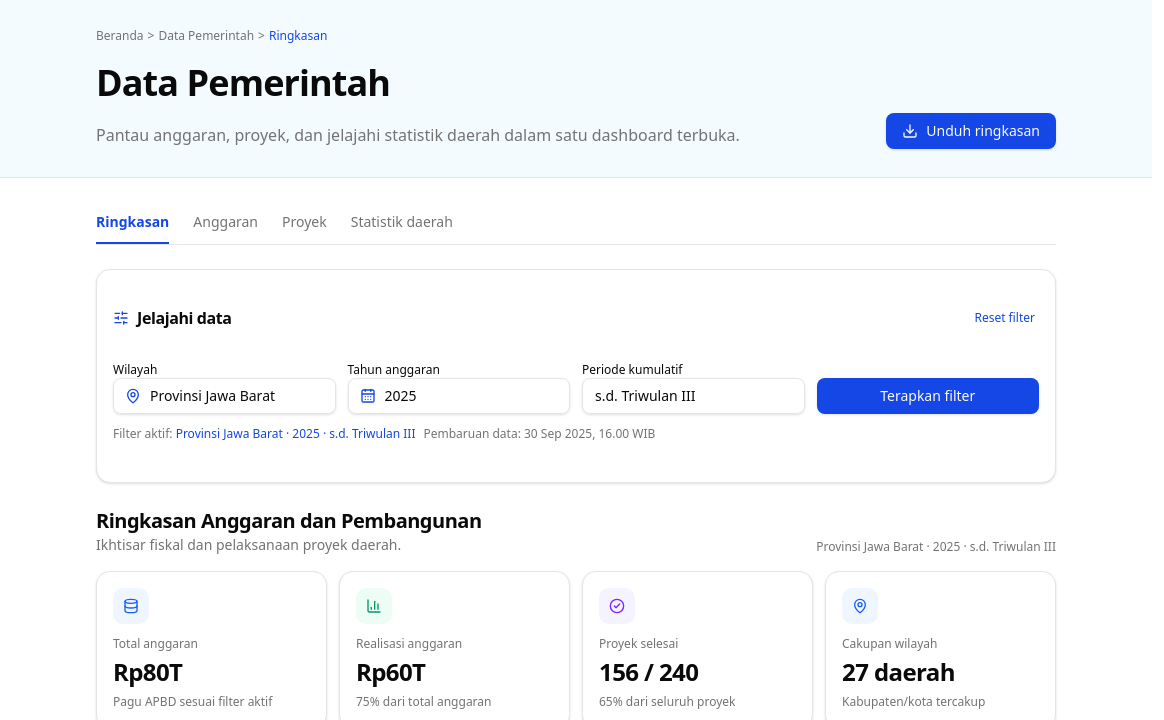
Test: PublicDataPage › updates summary and chart data when region, year, and period filters change
This screenshot has width=1164, height=720.
Select "Kabupaten Bogor" in the dropdown labelled "Wilayah" at (224, 396), box [113,378,336,414]
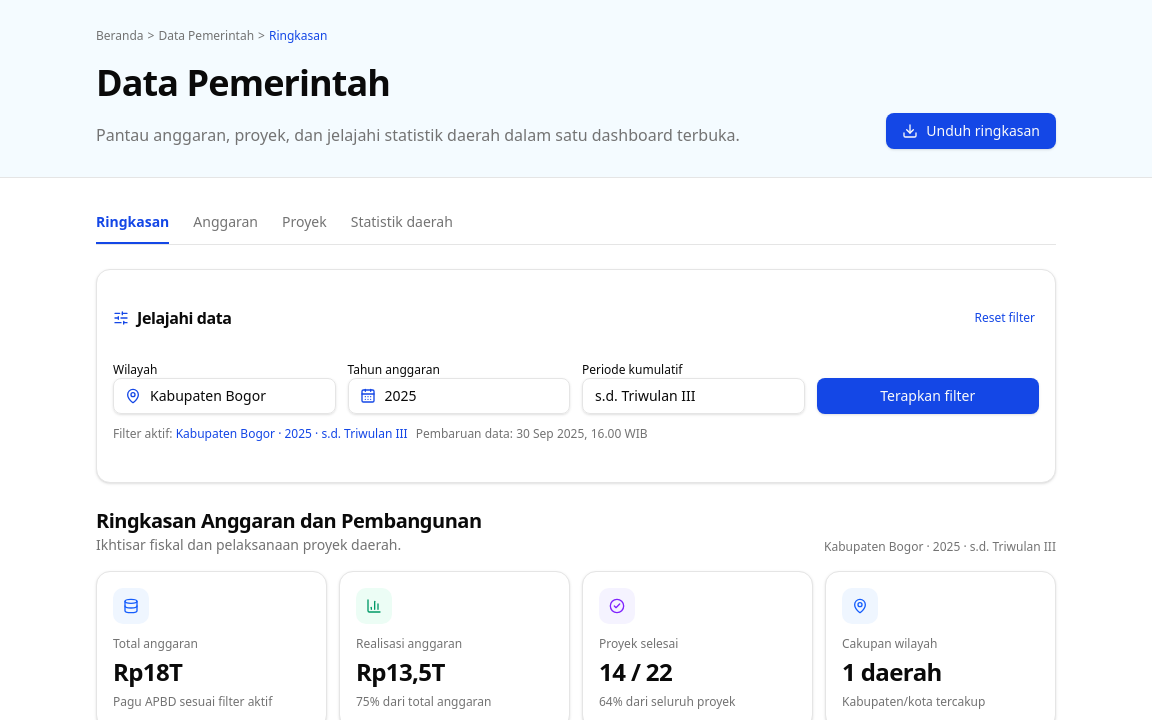
Select "2024" in the dropdown labelled "Tahun anggaran" at (459, 396), box [348,378,570,414]
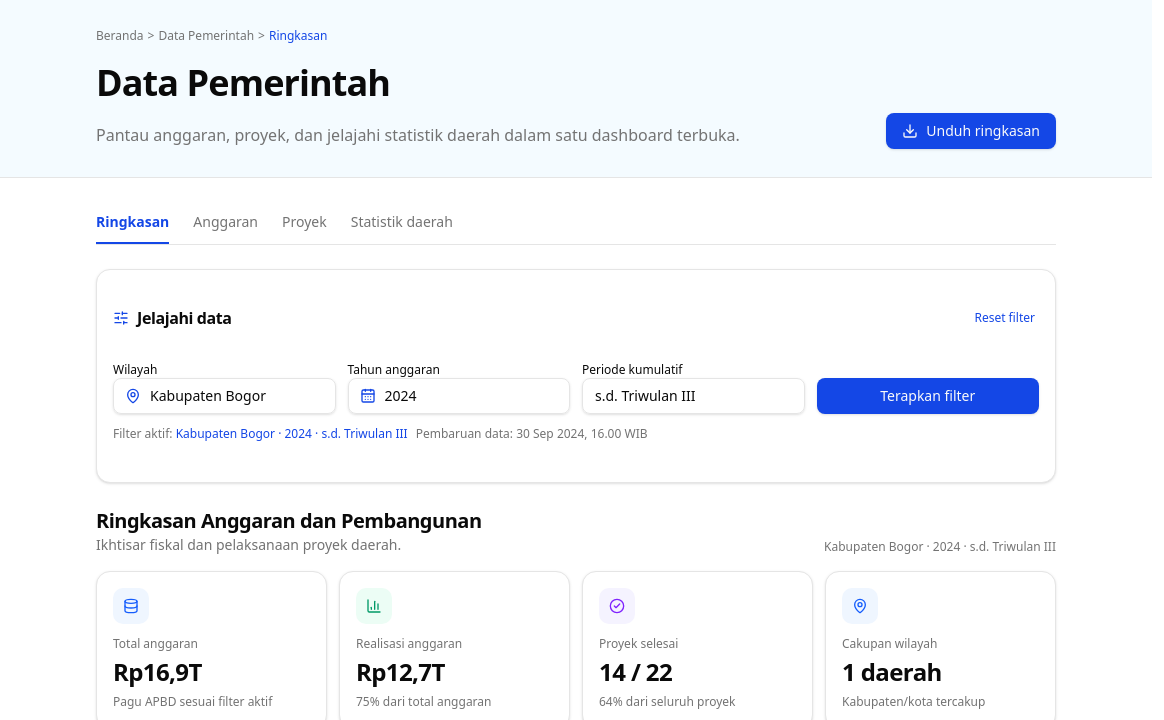
Select "s.d. Triwulan II" in the dropdown labelled "Periode kumulatif" at (693, 396), box [582,378,804,414]
(page scrolled)
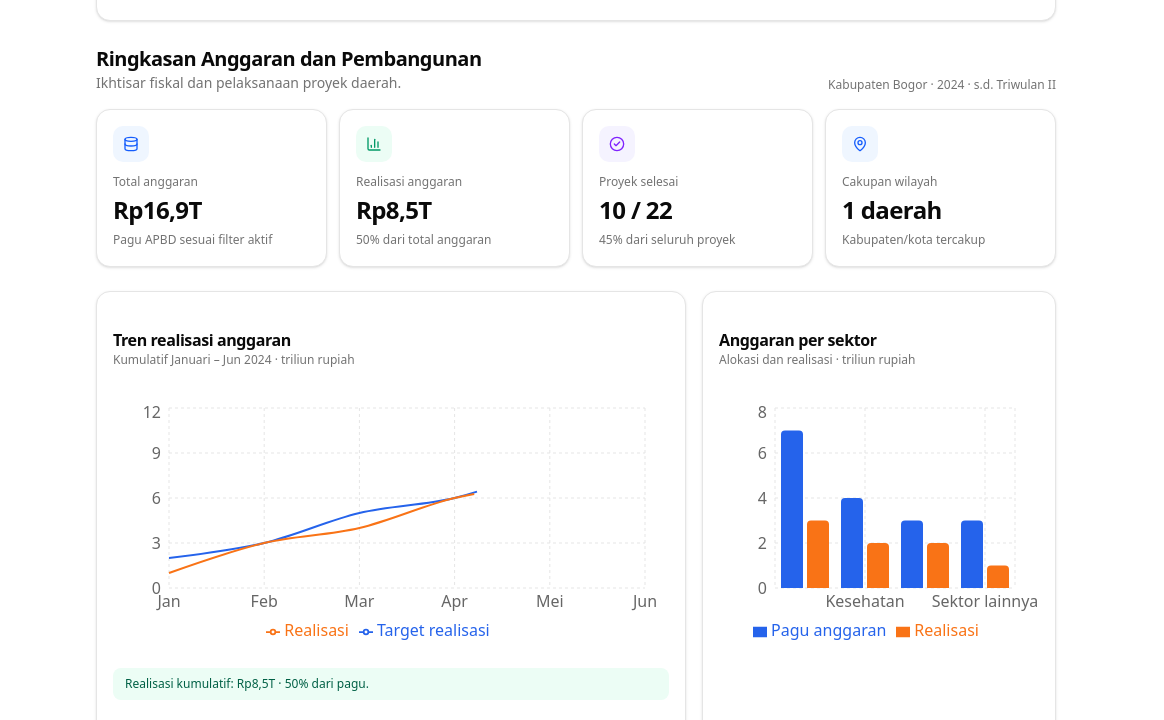
Expected: the text "Rp16,9T" is shown, [113,193,202,226]
Expected: the text "1 daerah" is shown, [842,193,942,226]
Expected: the text "Rp8,5T" is shown, [356,193,432,226]
